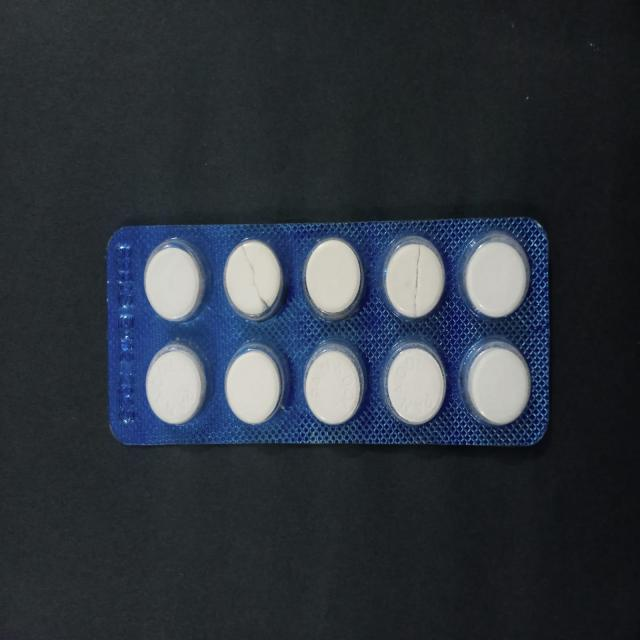defect: (376, 230, 448, 326), (220, 234, 288, 324)
